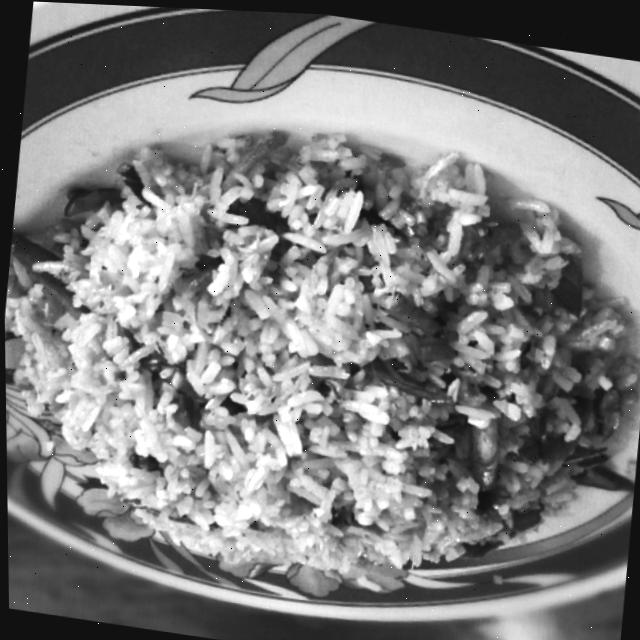米饭主食: (8, 78, 640, 634)
